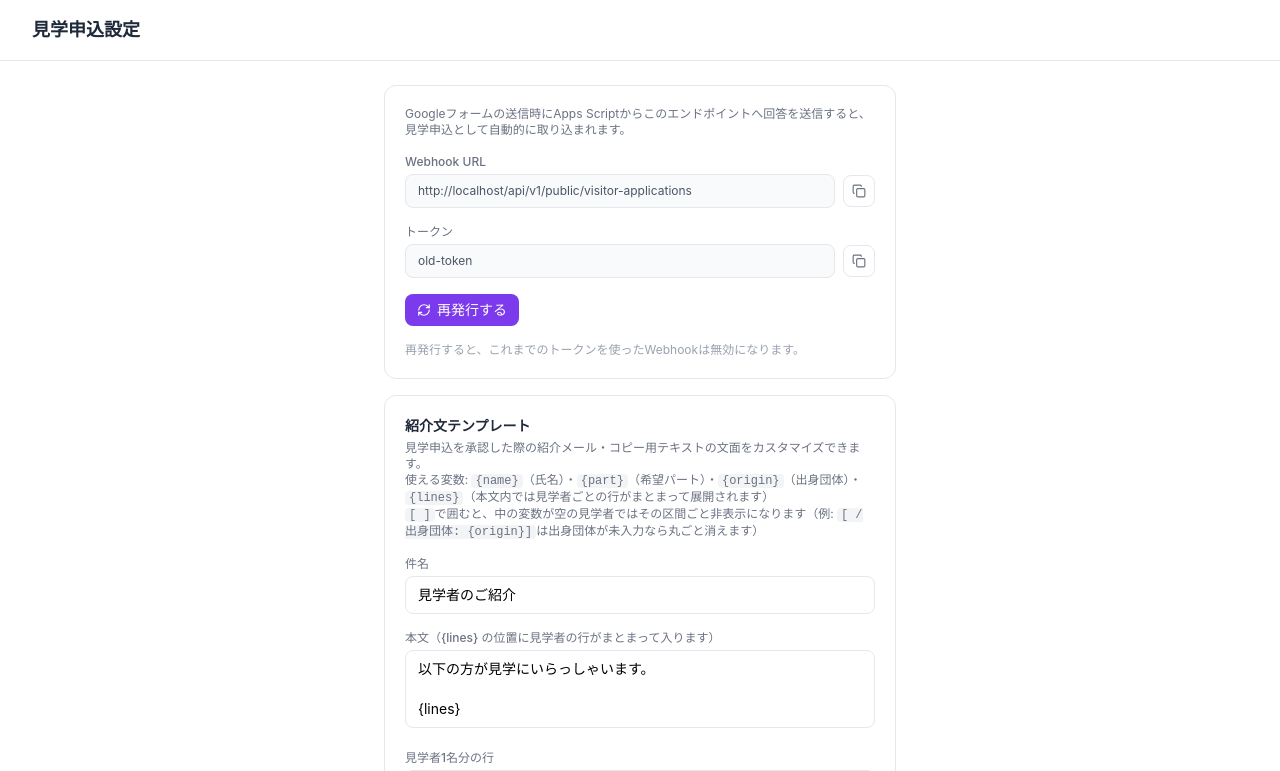
Test: VisitorWebhookPage › 再発行に失敗したら確認ダイアログの中にエラーを表示する
The width and height of the screenshot is (1280, 771).
Expected: the 2nd field showing "old-token" is shown, [405,244,835,278]
Click the button "再発行する": (462, 310) [405,294,519,326]
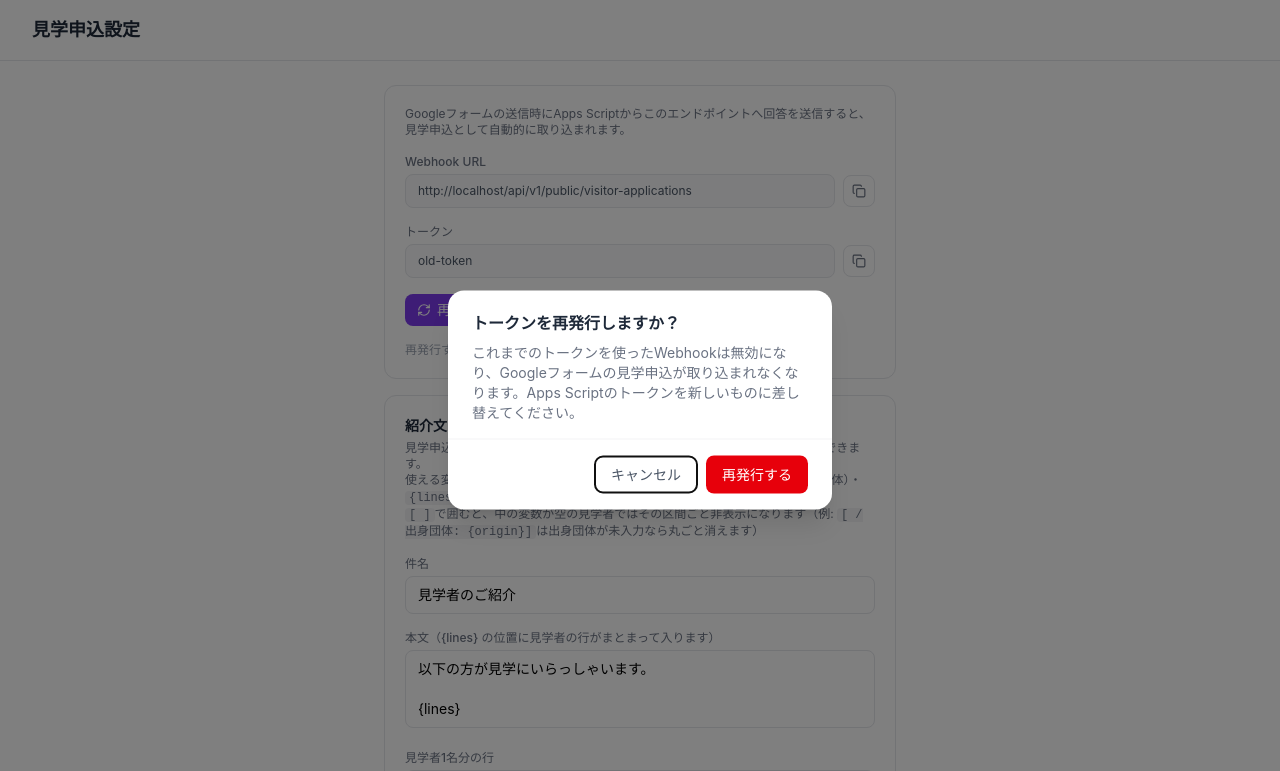
Click the button "再発行する": (757, 474) [706,456,808,494]
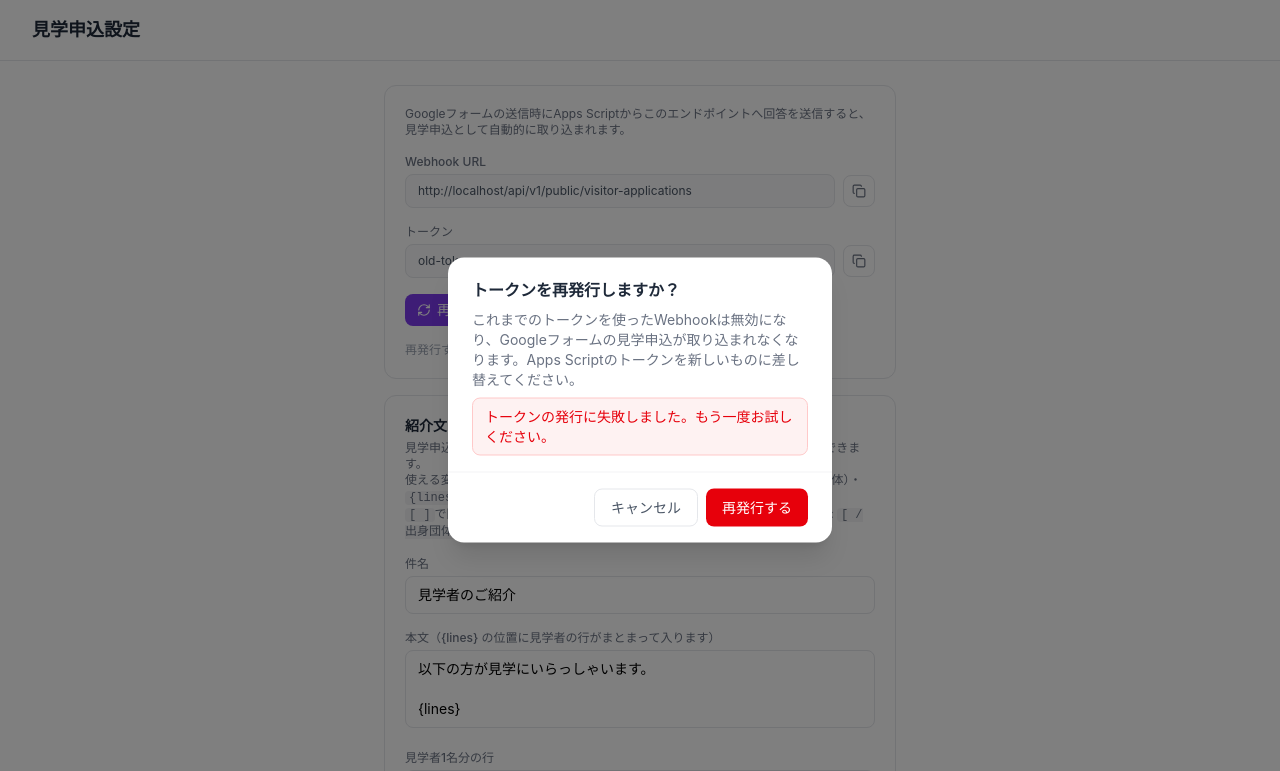
Now the message reads "トークンの発行に失敗しました。もう一度お試しください。", box [485,408,793,444]
